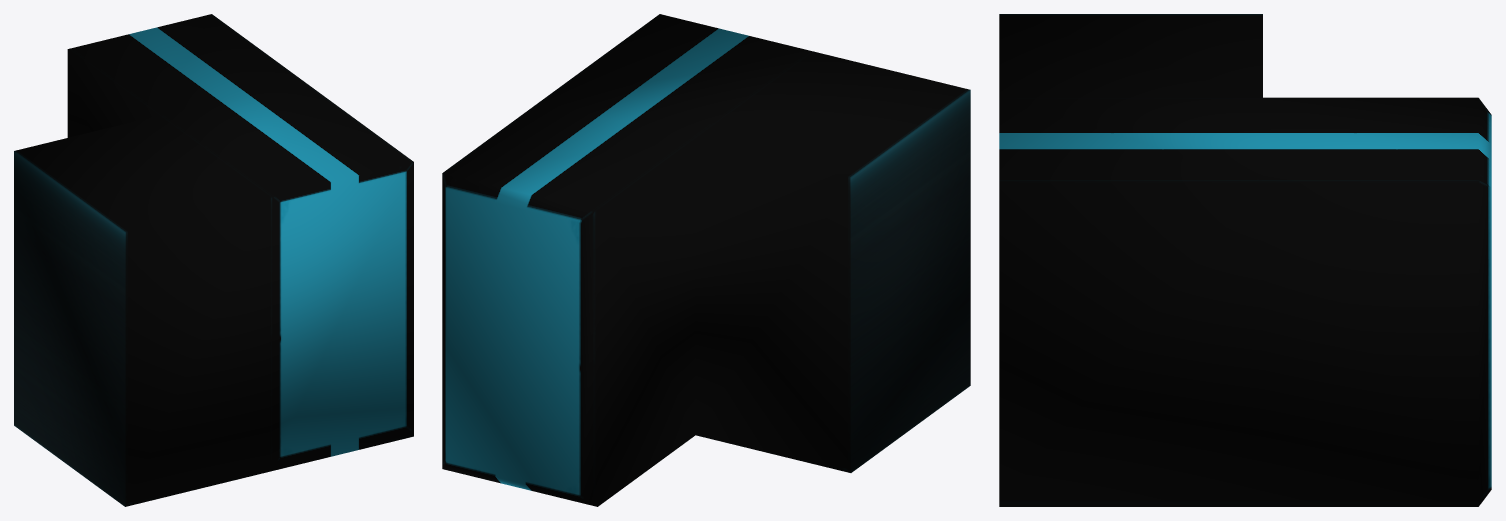
File: rail_short.fbx
3 views of the same model, side by side, from view 1: azimuth 30°, elevation 25°; view 2: azimuth 150°, elevation 25°; view 3: azimuth 270°, elevation 25° (orthographic). The views are drawn at different scales.
Visible parts, largest first — view 1: Random_Gears_pCube4; view 2: Random_Gears_pCube4; view 3: Random_Gears_pCube4.
Part boxes in pixels (box(x1,y1,x2,y2)): Random_Gears_pCube4: box(14, 14, 413, 506); Random_Gears_pCube4: box(442, 14, 970, 506); Random_Gears_pCube4: box(999, 14, 1491, 506).
Size of the model in its own units: 4.03 by 3.66 by 5.01.
1 material, 1 textured.
